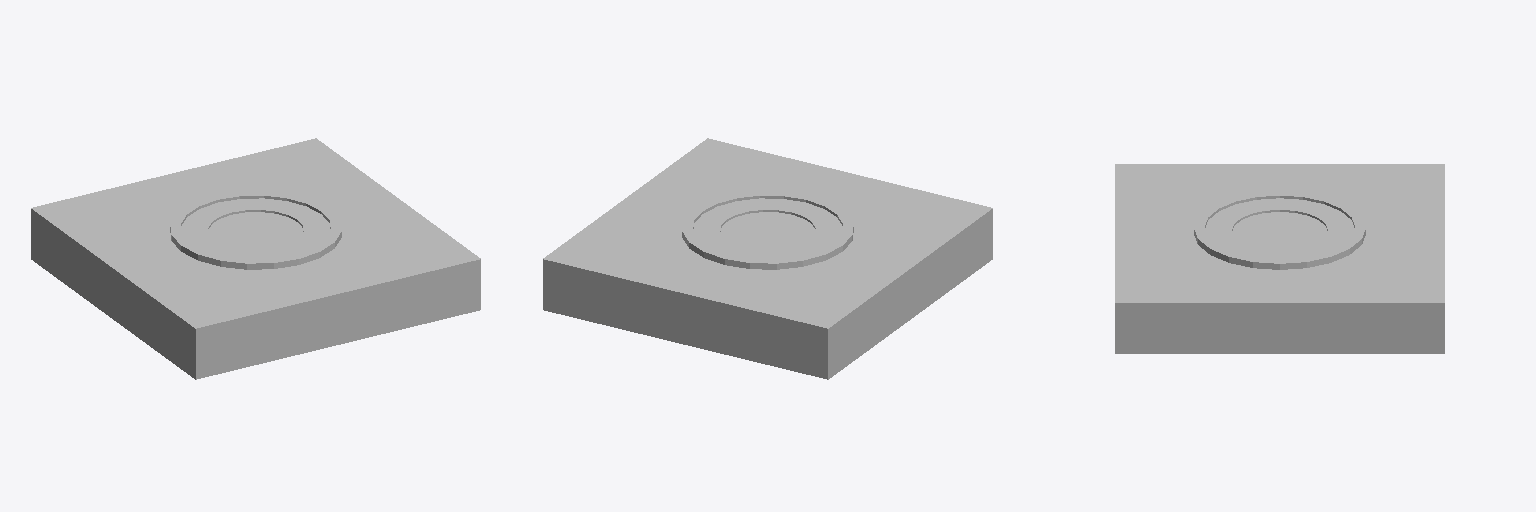
The model's file is conn01.obj.
3 renders of one model, left to right at view 1: azimuth 30°, elevation 25°; view 2: azimuth 150°, elevation 25°; view 3: azimuth 270°, elevation 25°, orthographic.
Visible parts, largest first — view 1: conn01:pCylinder2; view 2: conn01:pCylinder2; view 3: conn01:pCylinder2.
Boxes of the visible parts, x1,y1,x2,y2 form: conn01:pCylinder2: [31, 138, 480, 379]; conn01:pCylinder2: [543, 138, 992, 379]; conn01:pCylinder2: [1115, 164, 1444, 353].
Size of the model in its own units: 16.16 by 3.09 by 16.16.